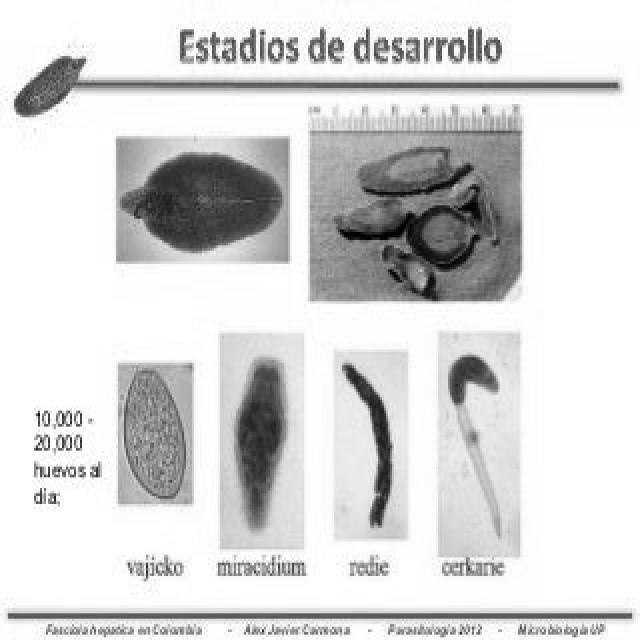Fasciola Hepatica: (115, 367, 187, 500)
